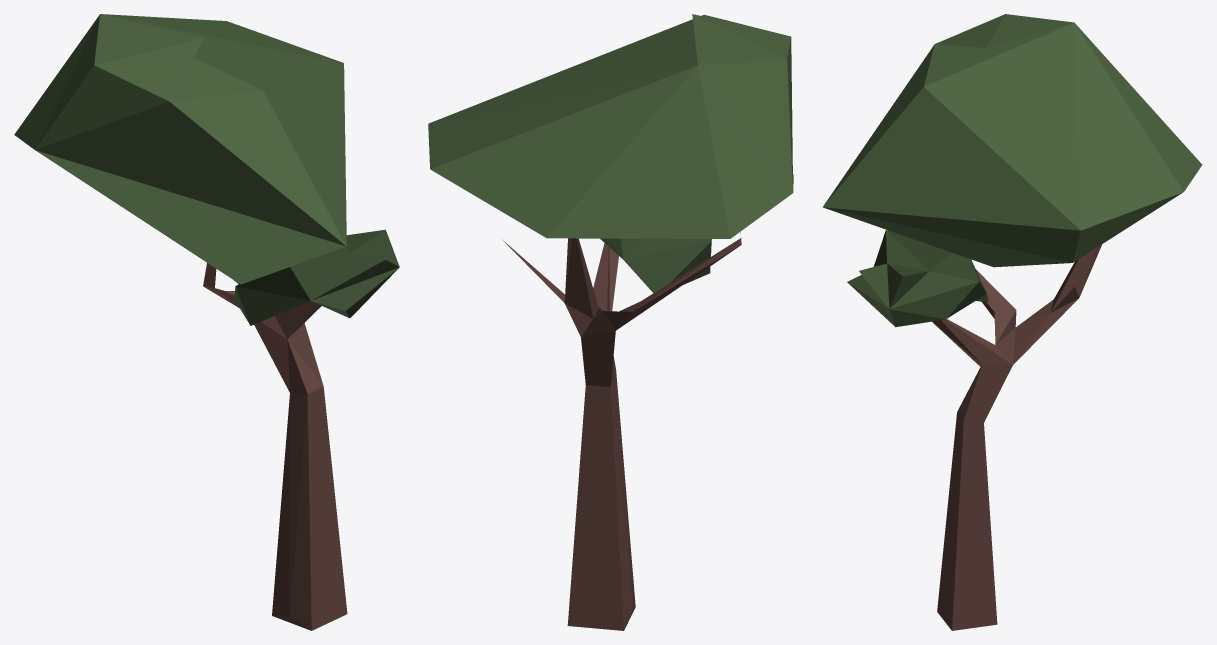
File: qn_tree_d_lod.glb
The picture shows the model from 3 angles, left to right: view 1: azimuth 30°, elevation 25°; view 2: azimuth 150°, elevation 25°; view 3: azimuth 270°, elevation 25°; orthographic projection. The views are drawn at different scales.
Parts seen in each view (by area): view 1: qn_tree_d_lod; view 2: qn_tree_d_lod; view 3: qn_tree_d_lod.
Boxes of the visible parts, x1,y1,x2,y2 form: qn_tree_d_lod: (14,14,399,630); qn_tree_d_lod: (428,14,793,630); qn_tree_d_lod: (823,14,1202,630).
Bounding box in the file's own units: 1.58 × 2.76 × 1.79.
